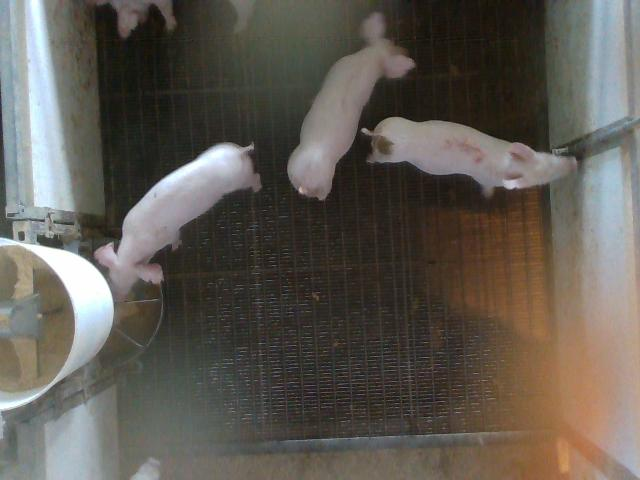pig-5: (361, 118, 576, 196)
